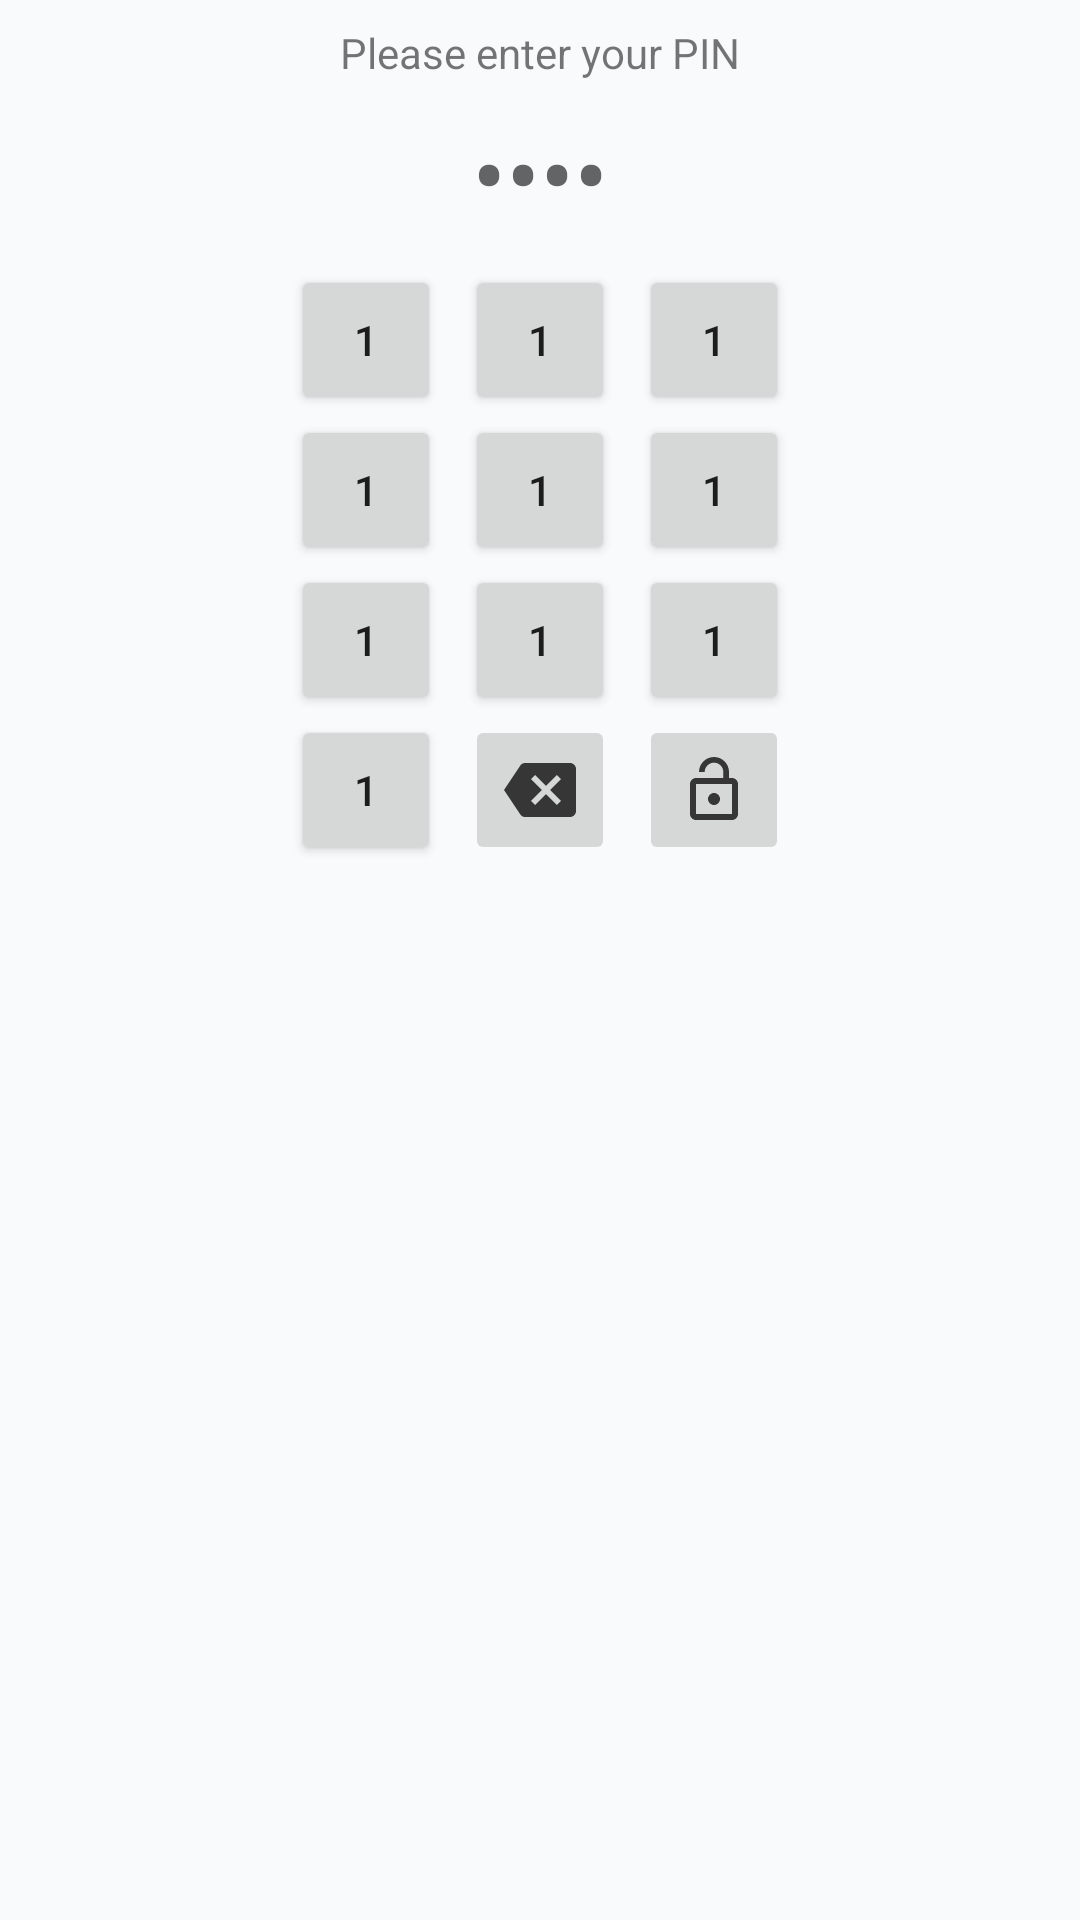

Named icons in this screenshot (1080px x 1920px) and their bounding boxes, [x1,y1,x2,y2]:
backspace: [477,733,603,847]
lock open: [651,733,777,847]
